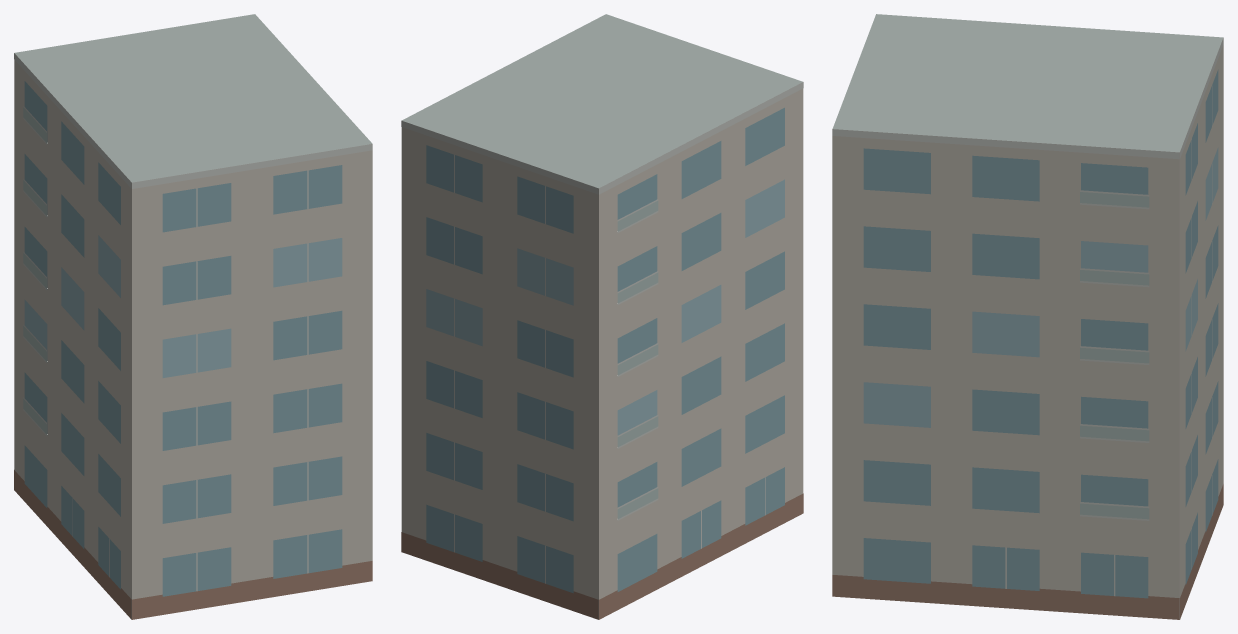
The model's file is survey-upis-32659250.glb.
3 views of the same model, side by side, from view 1: azimuth 30°, elevation 25°; view 2: azimuth 150°, elevation 25°; view 3: azimuth 270°, elevation 25° (orthographic). The views are drawn at different scales.
Parts seen in each view (by area): view 1: survey-upis-32659250.tmp; view 2: survey-upis-32659250.tmp; view 3: survey-upis-32659250.tmp.
Boxes of the visible parts, x1,y1,x2,y2 form: survey-upis-32659250.tmp: [14, 14, 372, 619]; survey-upis-32659250.tmp: [401, 14, 803, 619]; survey-upis-32659250.tmp: [832, 14, 1223, 619].
Bounding box in the file's own units: 10.55 × 16.6 × 12.6.
